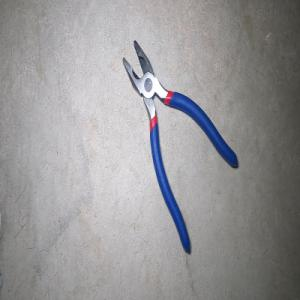Pliers: (122, 39, 238, 253)
